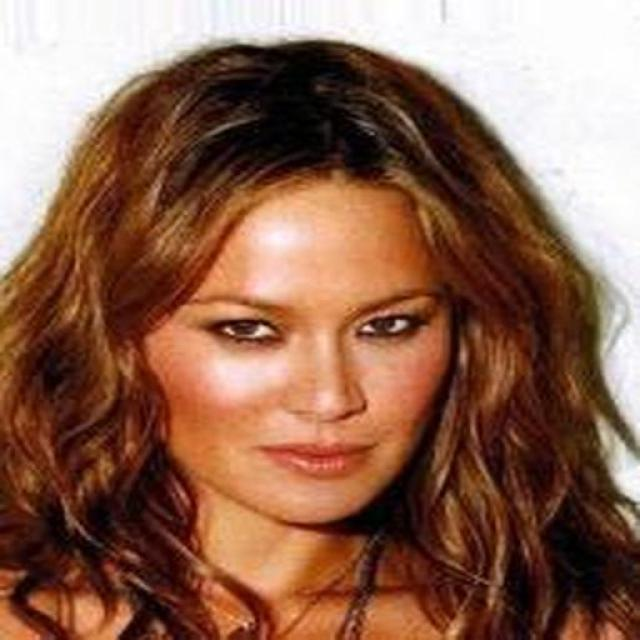bareface: (94, 72, 460, 527)
